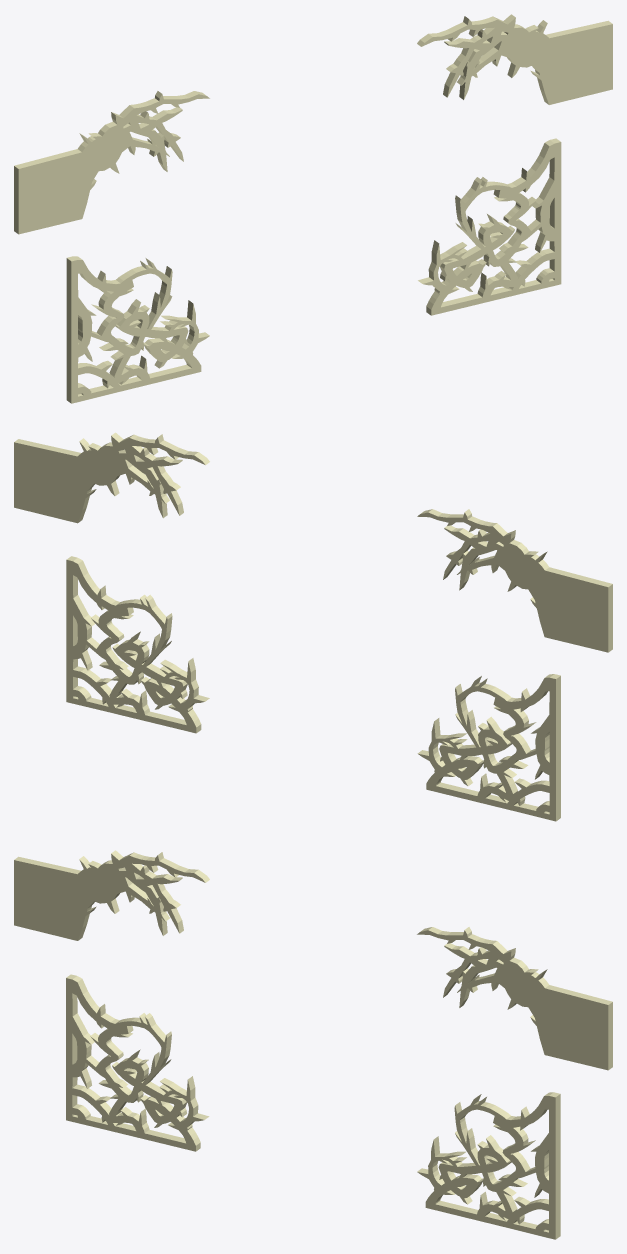
Rendered from Bramble_Frame.fbx.
3 views of the same model, one above another, from view 1: azimuth 30°, elevation 25°; view 2: azimuth 150°, elevation 25°; view 3: azimuth 330°, elevation 25° (orthographic).
Parts seen in each view (by area): view 1: pPlane53, pPlane52, pPlane55, pPlane54; view 2: pPlane53, pPlane52, pPlane55, pPlane54; view 3: pPlane52, pPlane53, pPlane54, pPlane55.
Part boxes in pixels (x1=…): pPlane53: x1=418, y1=138, x2=561, y2=315; pPlane52: x1=66, y1=256, x2=209, y2=403; pPlane55: x1=417, y1=14, x2=612, y2=104; pPlane54: x1=14, y1=91, x2=209, y2=234; pPlane53: x1=66, y1=556, x2=209, y2=733; pPlane52: x1=417, y1=674, x2=560, y2=821; pPlane55: x1=14, y1=432, x2=209, y2=523; pPlane54: x1=417, y1=509, x2=612, y2=652; pPlane52: x1=66, y1=974, x2=209, y2=1151; pPlane53: x1=417, y1=1092, x2=560, y2=1239; pPlane54: x1=14, y1=850, x2=209, y2=940; pPlane55: x1=417, y1=927, x2=612, y2=1070.
Bounding box in the file's own units: 4.59 × 2.12 × 0.0676.
